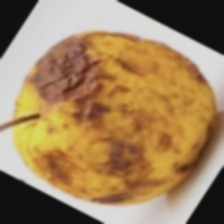apple: (0, 38, 201, 203)
